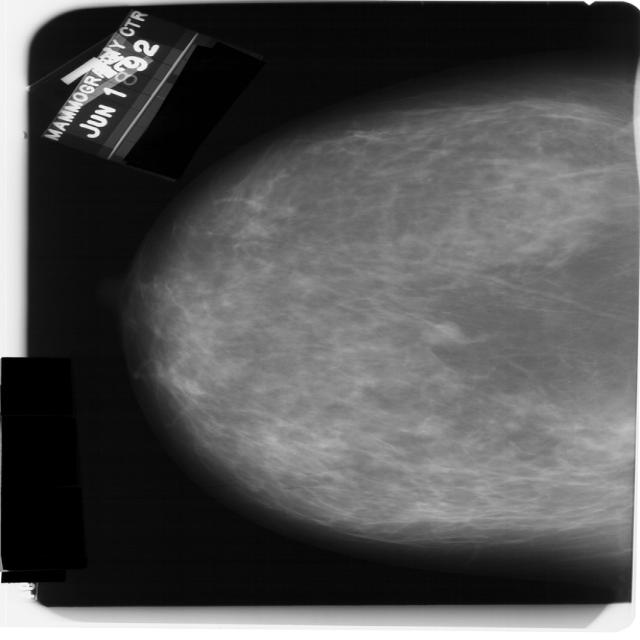tumour: (419, 319, 459, 345)
